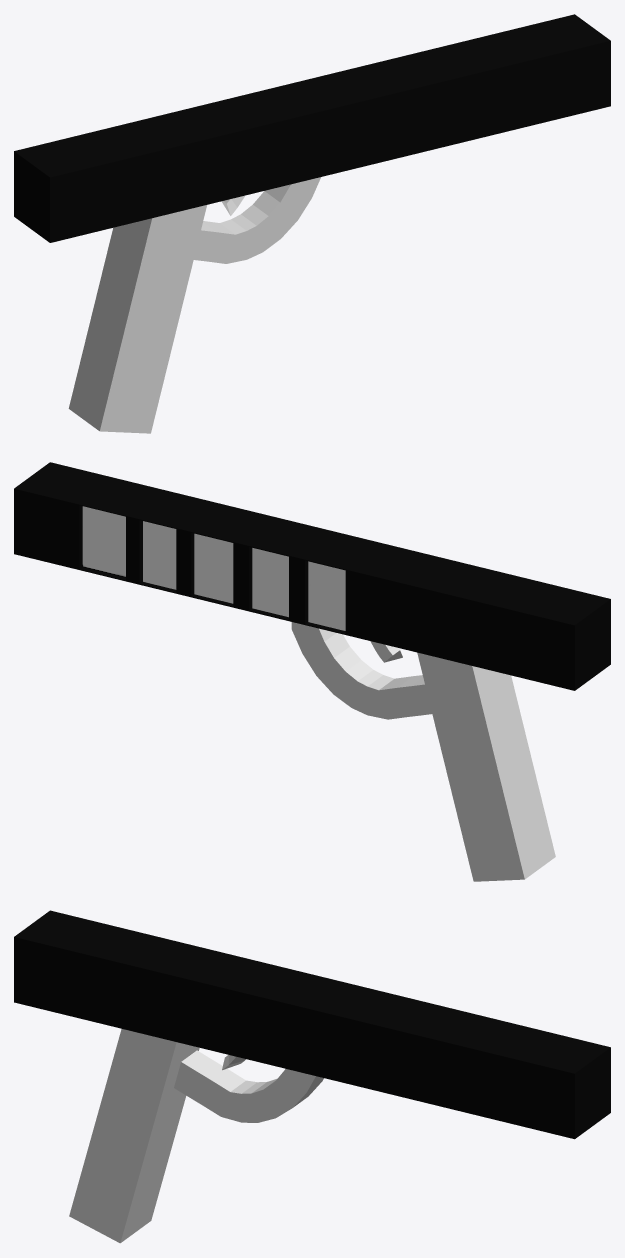
The model's file is Gun.fbx.
3 views of the same model, one above another, from view 1: azimuth 30°, elevation 25°; view 2: azimuth 150°, elevation 25°; view 3: azimuth 330°, elevation 25° (orthographic).
Parts seen in each view (by area): view 1: Cube, Cube.001, Cube.002; view 2: Cube, Cube.001, Cube.002; view 3: Cube, Cube.001, Cube.002.
Boxes of the visible parts, left/top/right/bottom form: Cube: left=14, top=14, right=610, bottom=242; Cube.001: left=68, top=205, right=206, bottom=433; Cube.002: left=193, top=177, right=320, bottom=263; Cube: left=14, top=462, right=610, bottom=690; Cube.001: left=417, top=652, right=555, bottom=881; Cube.002: left=291, top=622, right=432, bottom=719; Cube: left=14, top=910, right=610, bottom=1139; Cube.001: left=69, top=1029, right=199, bottom=1243; Cube.002: left=174, top=1050, right=323, bottom=1122.
Bounding box in the file's own units: 1681 × 812 × 188.
